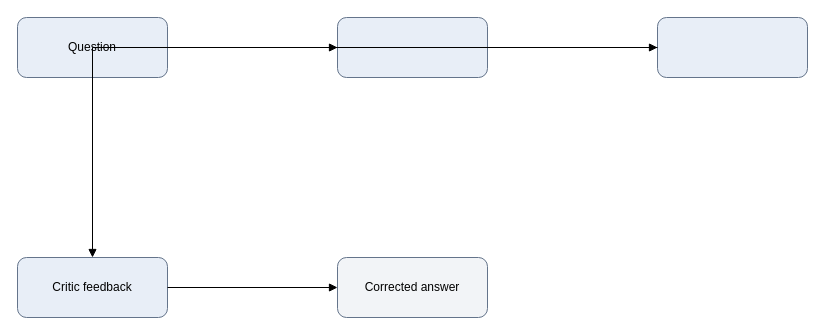
This 825x335 diagram has some shape labels left out. Here are the shapes that lost their labels. From the top down, the centre of each, then its label:
At pixel 412 47: "Retrieval and generation".
At pixel 732 47: "Error detection".
